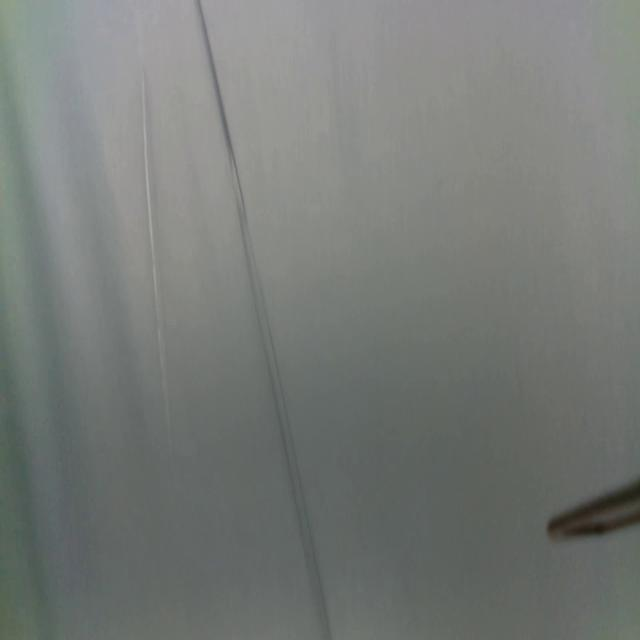crease: (197, 0, 331, 638), (141, 74, 172, 430)
